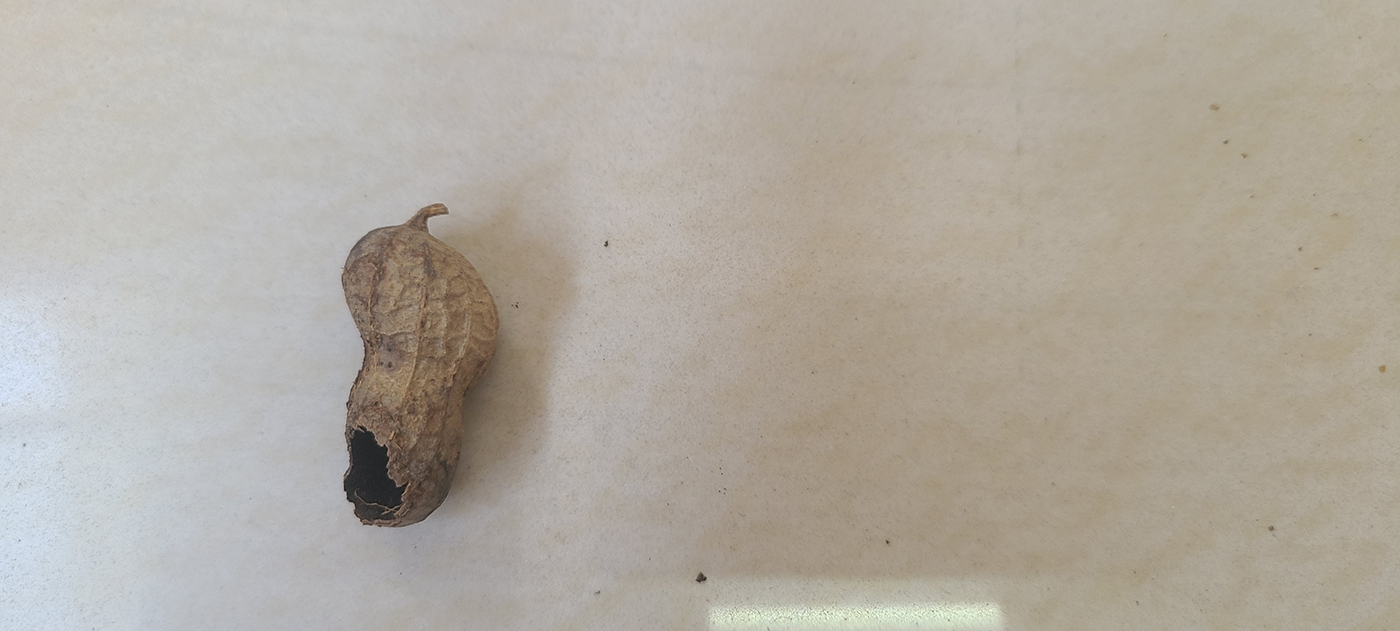l: (336, 222, 504, 528)
